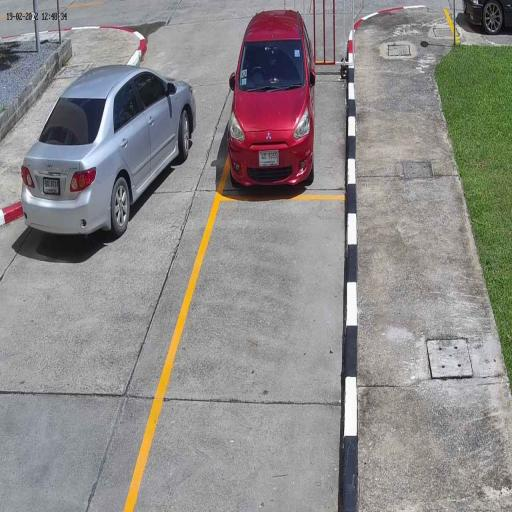car: (21, 66, 196, 236), (228, 10, 314, 188)
